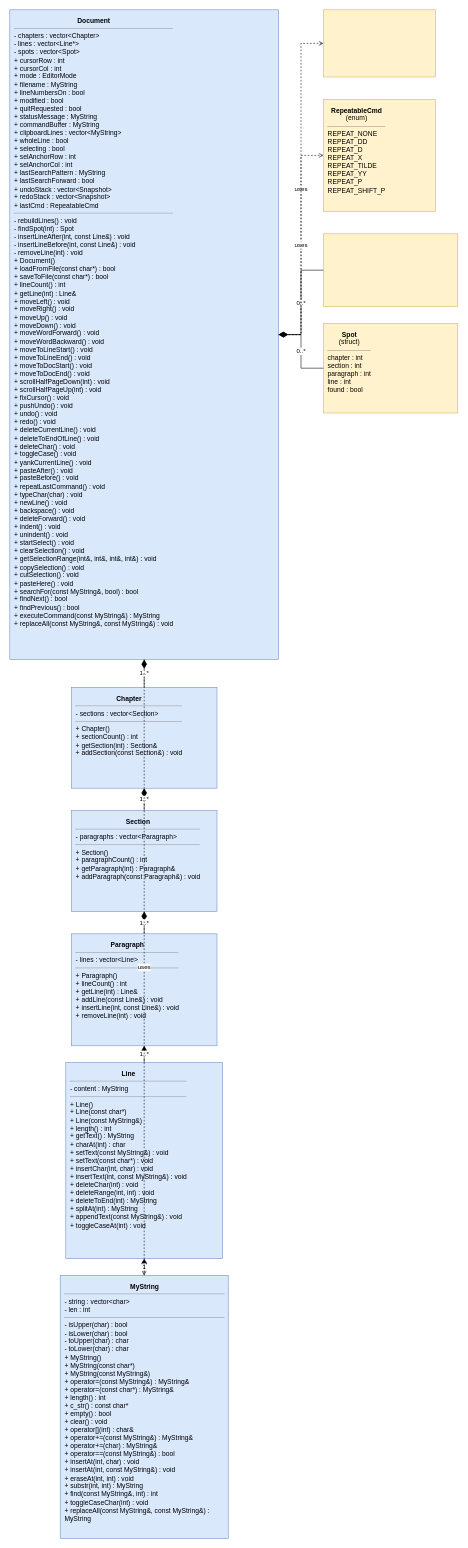
This 468x1548 diagram has some shape labels left out. The shapes that lost their labels are listed below. From the top down, each one's centre as x and y in pixels, then its label:
At (x=379, y=43): "EditorMode (enum) MODE_NORMAL MODE_INSERT MODE_COMMAND".
At (x=390, y=270): "Snapshot (struct) texts : vector<MyString> row : int col : int".
